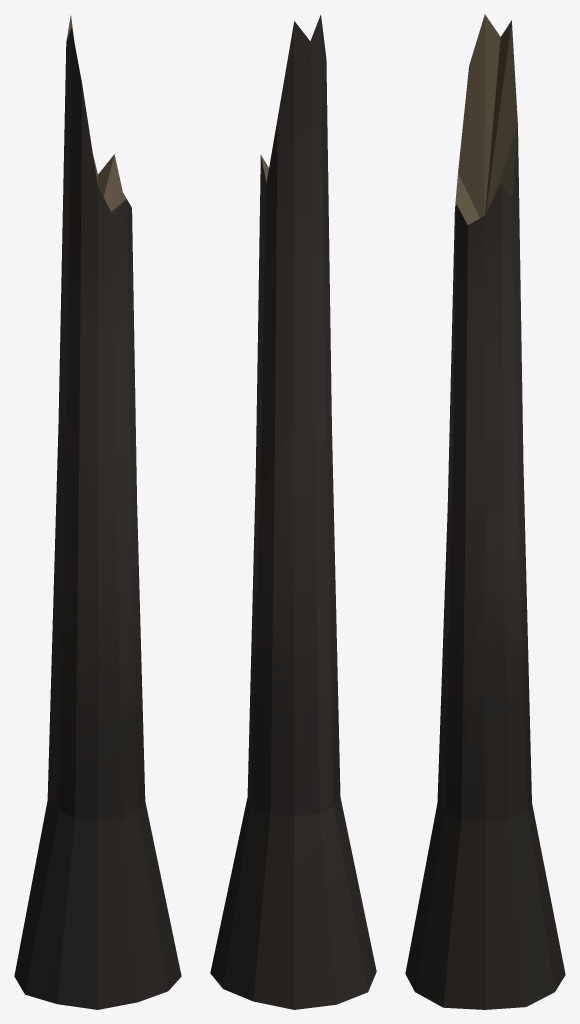
The model's file is tree burned broken.fbx.
The picture shows the model from 3 angles, left to right: view 1: azimuth 30°, elevation 25°; view 2: azimuth 150°, elevation 25°; view 3: azimuth 270°, elevation 25°; orthographic projection.
Parts seen in each view (by area): view 1: Cylinder; view 2: Cylinder; view 3: Cylinder.
Part boxes in pixels (left/top/right/bottom): Cylinder: left=14, top=15, right=181, bottom=1009; Cylinder: left=210, top=14, right=376, bottom=1009; Cylinder: left=405, top=14, right=565, bottom=1009.
Bounding box in the file's own units: 3.23 × 3.13 × 20.51.
Materials: 1 (1 with a texture image).
